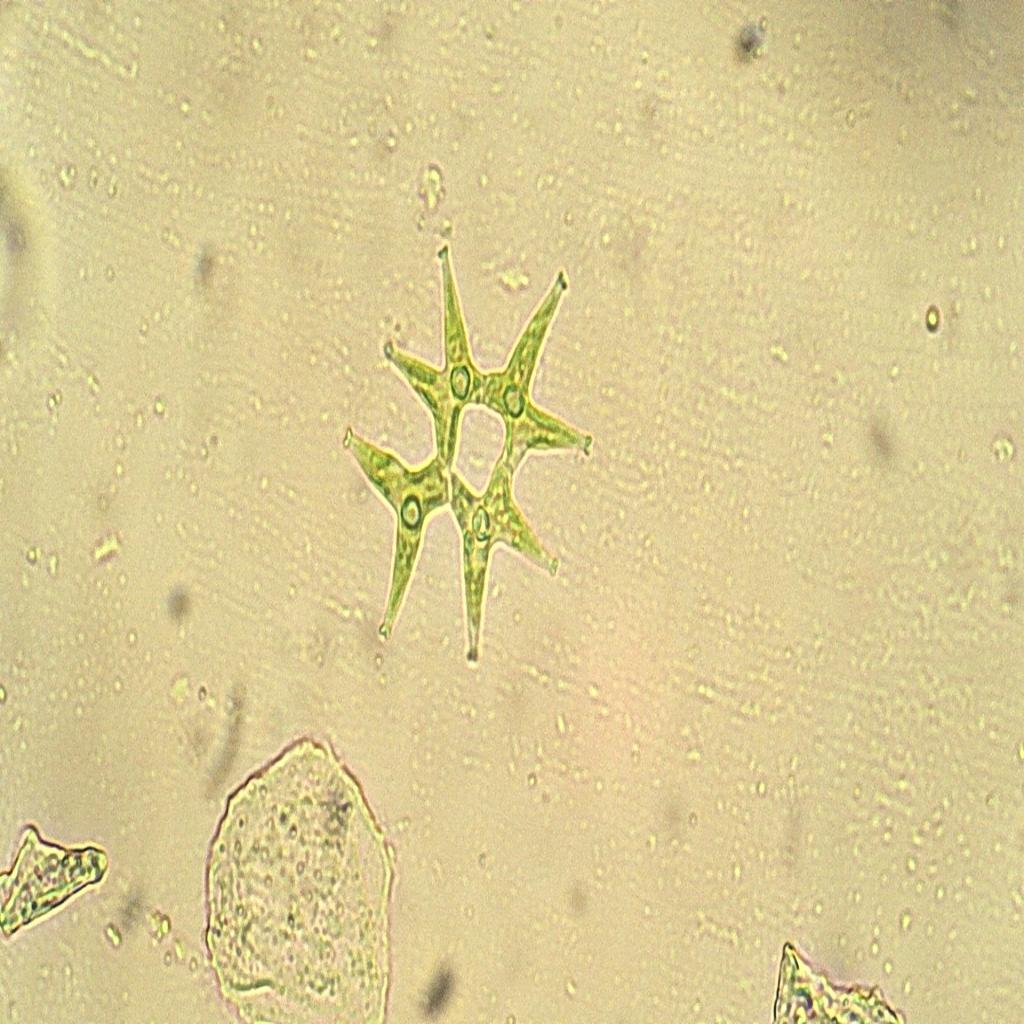Pediastrum_75FI: (335, 235, 602, 674)
